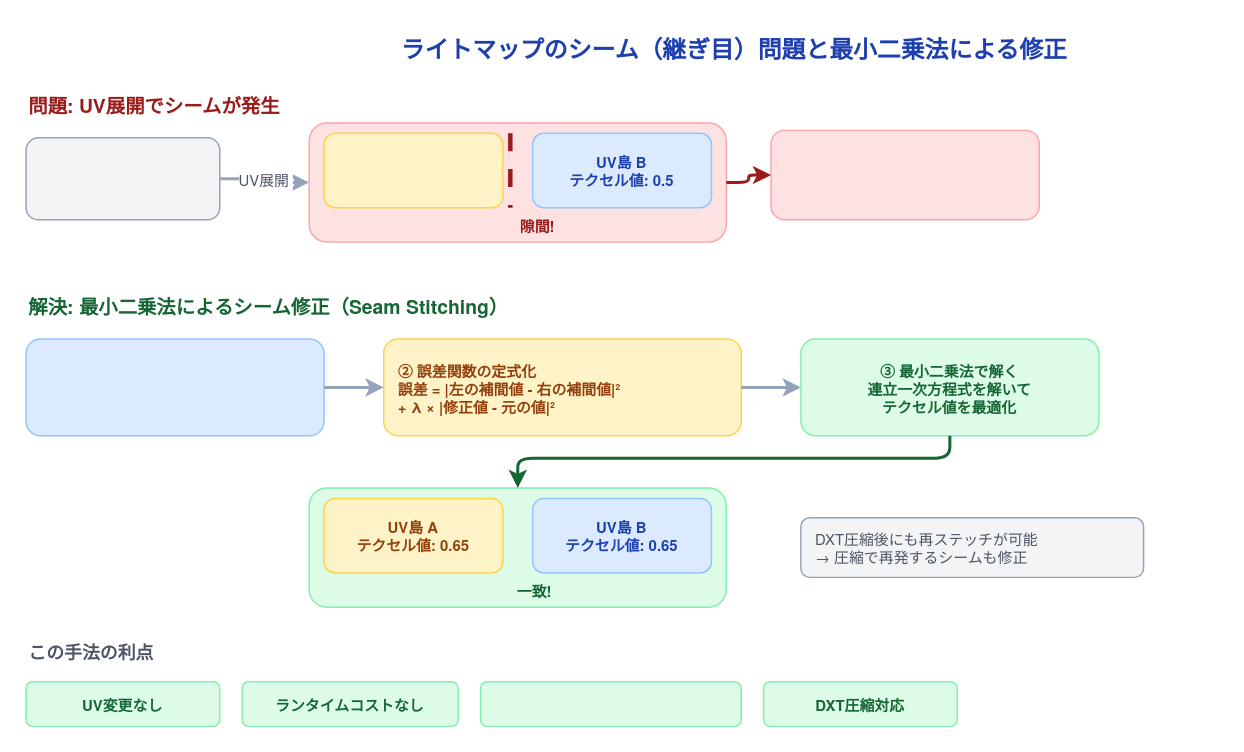
Some shapes in this 1244 by 752 pixel diagram are drawn without their labels. Each missing label, with the box of its shape:
3Dメッシュ (連続した表面): (25, 136, 220, 220)
UV島 A テクセル値: 0.8: (323, 132, 503, 208)
① ステッチングポイント配置 シームのエッジに沿って 等間隔にサンプル点を配置: (25, 337, 324, 436)
バイリニア補間が シームを越えられない → 明るさの段差が見える: (770, 129, 1039, 220)
自動処理（ベイクに組込み）: (479, 680, 741, 726)
